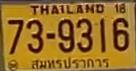1: (99, 18, 105, 52)
3: (76, 17, 92, 51), (26, 19, 42, 52)
6: (112, 17, 128, 50)
7: (7, 19, 23, 54)
9: (57, 18, 74, 52)
SPK: (29, 56, 112, 70)
